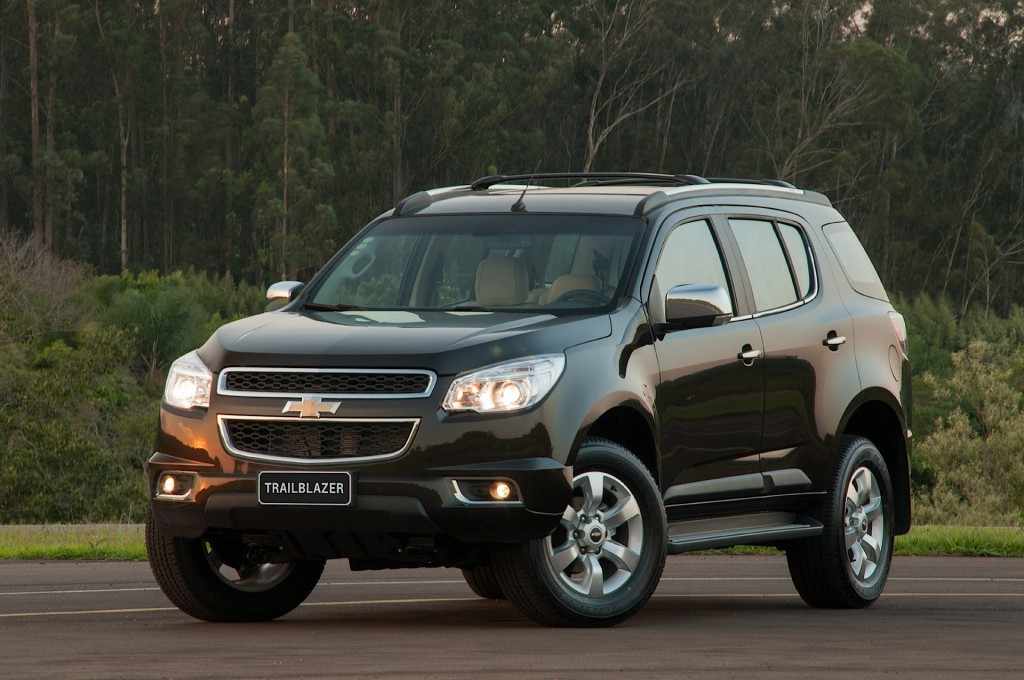pickup: (140, 167, 919, 625)
